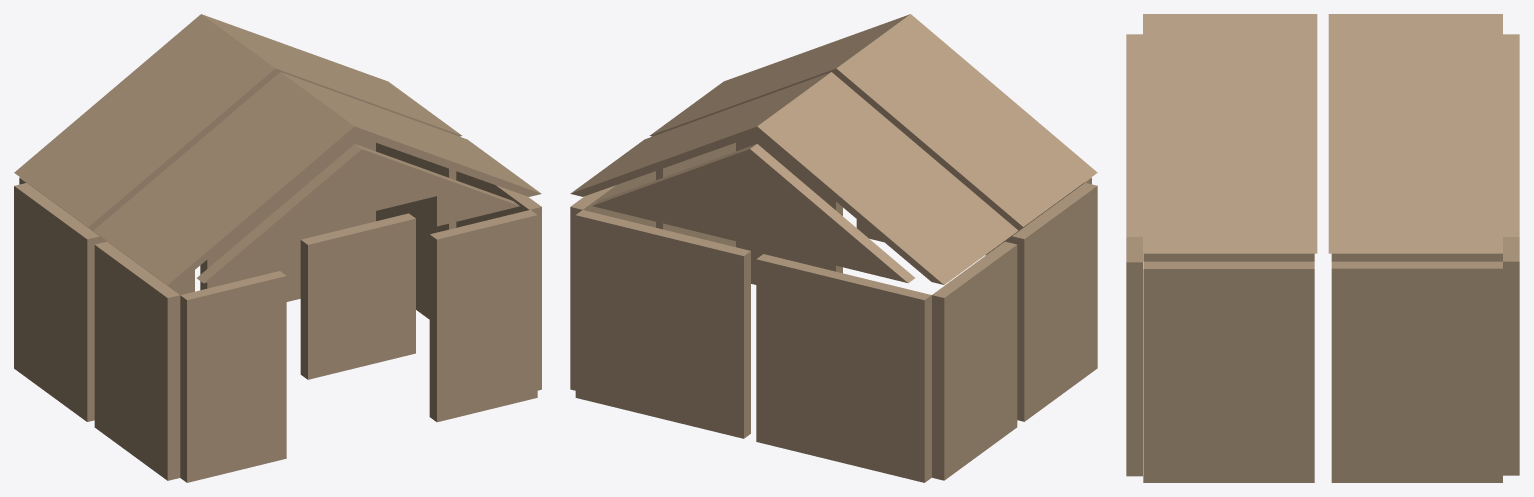
The model's file is building.glb.
The picture shows the model from 3 angles, left to right: view 1: azimuth 30°, elevation 25°; view 2: azimuth 150°, elevation 25°; view 3: azimuth 270°, elevation 25°; orthographic projection. The views are drawn at different scales.
Parts seen in each view (by area): view 1: Mesh_Mesh_head_geo.001_lambert2SG.001; view 2: Mesh_Mesh_head_geo.001_lambert2SG.001; view 3: Mesh_Mesh_head_geo.001_lambert2SG.001.
Part boxes in pixels (x1,y1,x2,y2): Mesh_Mesh_head_geo.001_lambert2SG.001: (14, 14, 541, 482); Mesh_Mesh_head_geo.001_lambert2SG.001: (570, 14, 1097, 482); Mesh_Mesh_head_geo.001_lambert2SG.001: (1126, 14, 1519, 482).
Size of the model in its own units: 90.03 by 71 by 69.97.
